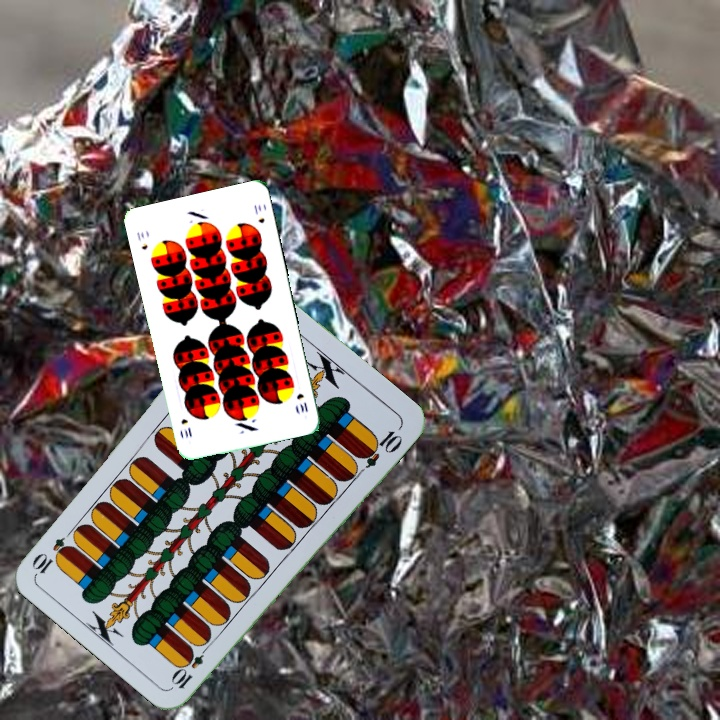E10: (168, 639, 213, 692)
S10: (293, 389, 310, 415), (133, 227, 150, 252)
